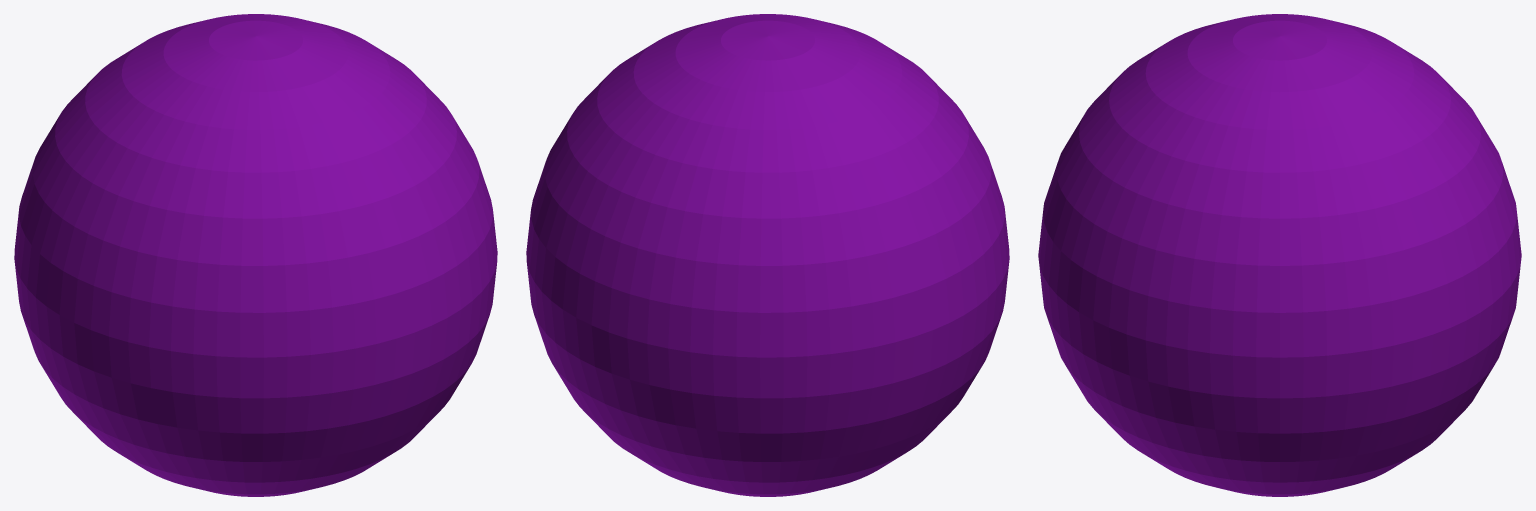
3 views of the same model, side by side, from view 1: azimuth 30°, elevation 25°; view 2: azimuth 150°, elevation 25°; view 3: azimuth 270°, elevation 25° (orthographic).
Visible parts, largest first — view 1: Sphere_Sphere.001; view 2: Sphere_Sphere.001; view 3: Sphere_Sphere.001.
Boxes of the visible parts, x1=… form: Sphere_Sphere.001: x1=14, y1=14, x2=497, y2=496; Sphere_Sphere.001: x1=526, y1=14, x2=1009, y2=496; Sphere_Sphere.001: x1=1038, y1=14, x2=1521, y2=496.
Bounding box in the file's own units: 2 × 2 × 2.
